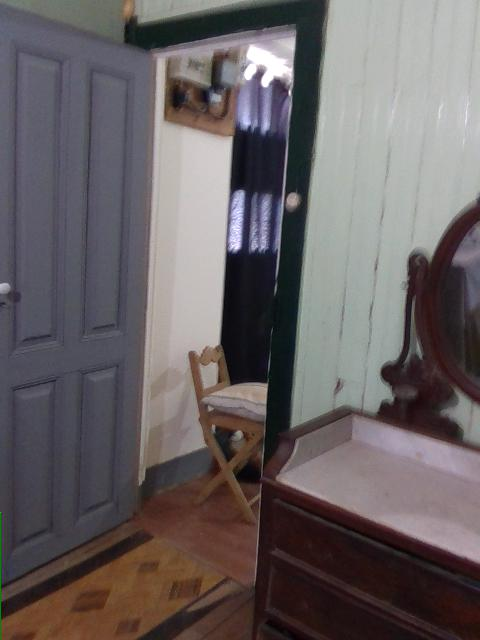door: (1, 3, 155, 588)
